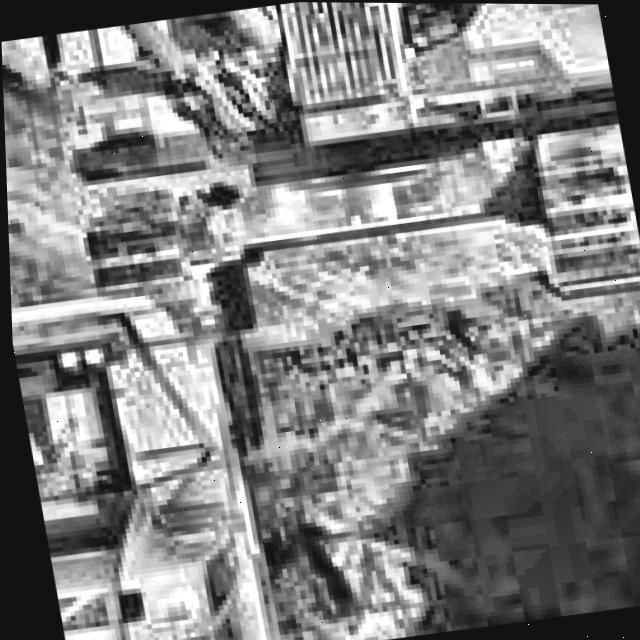dump_truck: (7, 254, 328, 640)
excavator: (0, 0, 640, 497)
